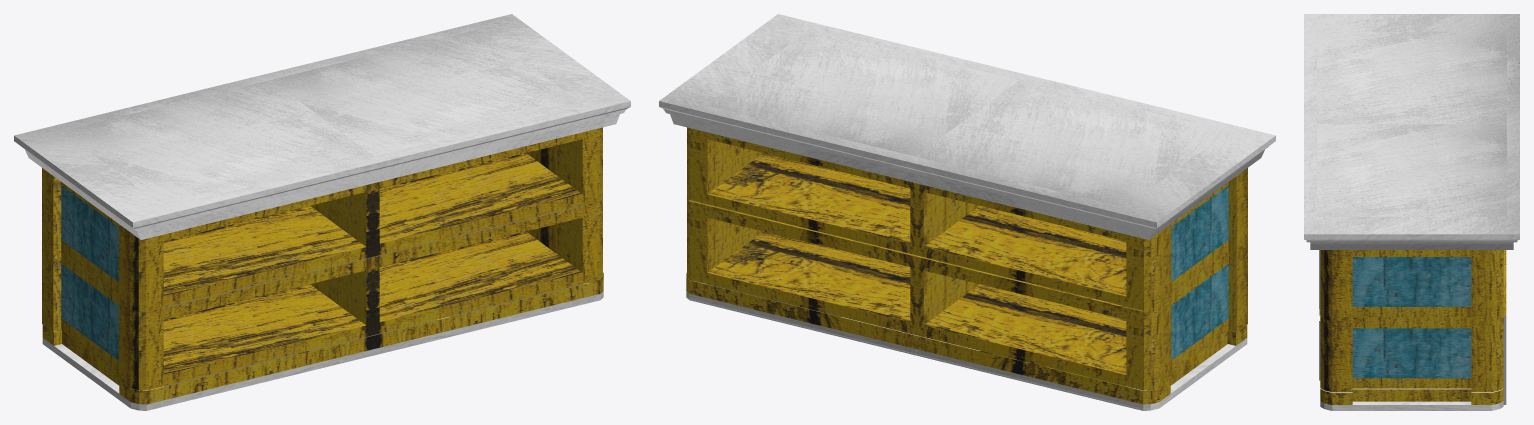
File: buro.obj
3 views of the same model, side by side, from view 1: azimuth 30°, elevation 25°; view 2: azimuth 150°, elevation 25°; view 3: azimuth 270°, elevation 25° (orthographic). The views are drawn at different scales.
Visible parts, largest first — view 1: polySurface17 polySurface15 polySurface13 polySurface11 polySurf; view 2: polySurface17 polySurface15 polySurface13 polySurface11 polySurf; view 3: polySurface17 polySurface15 polySurface13 polySurface11 polySurf.
Part boxes in pixels (x1,y1,x2,y2): polySurface17 polySurface15 polySurface13 polySurface11 polySurf: (14,14,630,410); polySurface17 polySurface15 polySurface13 polySurface11 polySurf: (659,14,1275,410); polySurface17 polySurface15 polySurface13 polySurface11 polySurf: (1304,14,1519,410).
Bounding box in the file's own units: 3.49 × 1.34 × 1.44.
